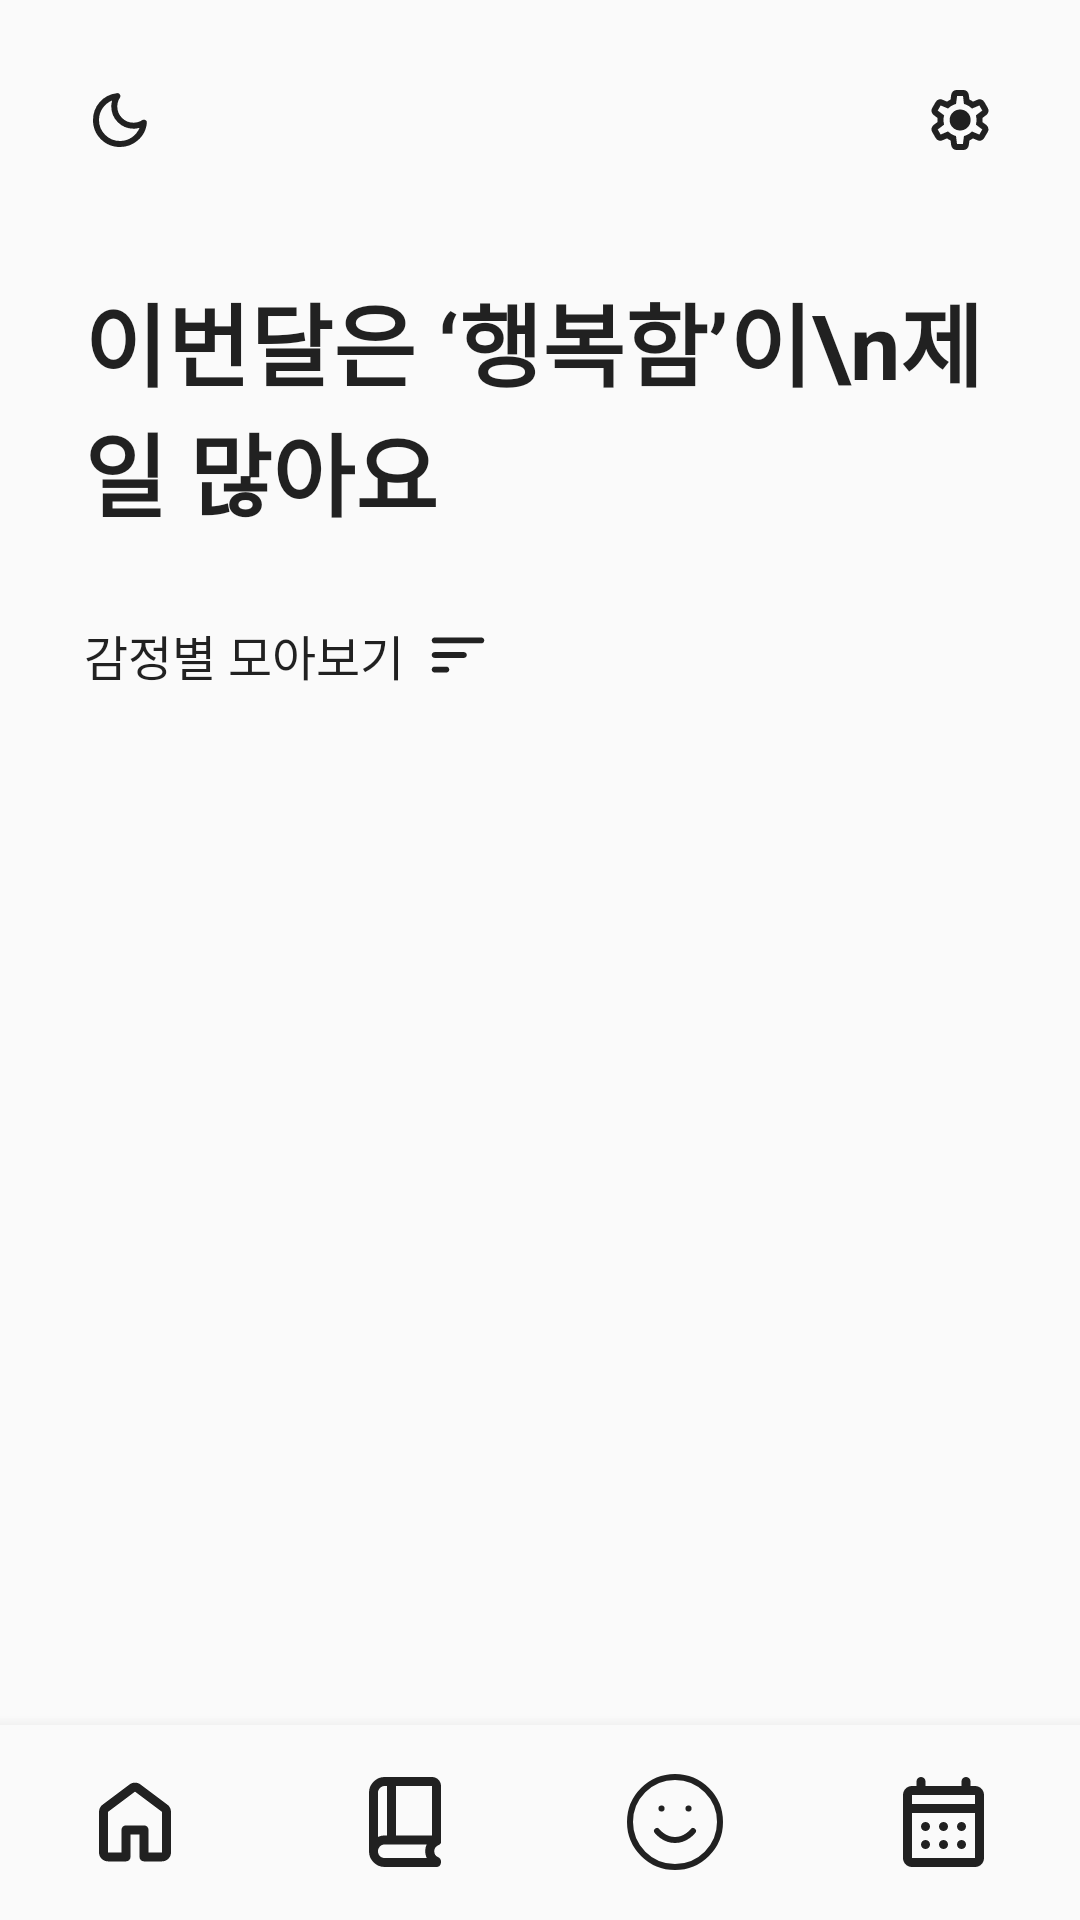

Screen size 1080px x 1920px. Icon name, then its center in pixels as point (x, y):
다크모드: point (120, 120)
설정: point (960, 120)
